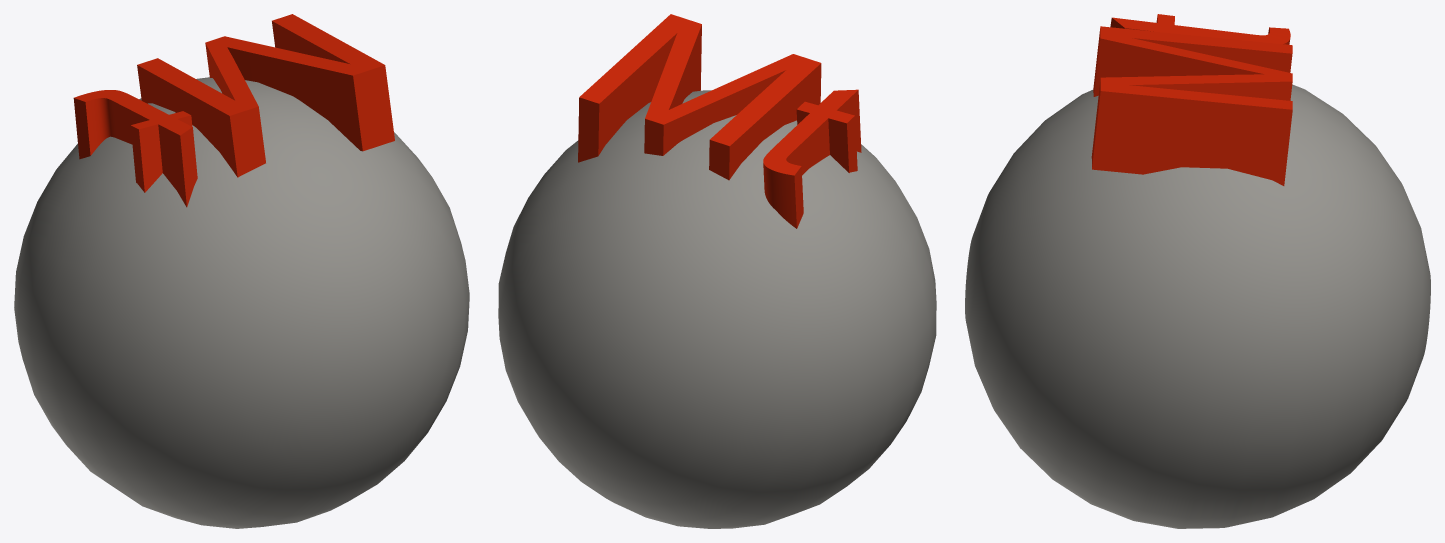
3 views of the same model, side by side, from view 1: azimuth 30°, elevation 25°; view 2: azimuth 150°, elevation 25°; view 3: azimuth 270°, elevation 25° (orthographic). The views are drawn at different scales.
Visible parts, largest first — view 1: Hf001, Object019, Object020; view 2: Hf001, Object019, Object020; view 3: Hf001, Object019, Object020.
Boxes of the visible parts, box(x1,y1,x2,y2) form: Hf001: box(14, 77, 469, 528); Object019: box(137, 14, 394, 177); Object020: box(73, 90, 197, 207); Hf001: box(498, 90, 936, 528); Object019: box(578, 14, 821, 180); Object020: box(763, 89, 861, 228); Hf001: box(965, 84, 1430, 528); Object019: box(1091, 26, 1292, 185); Object020: box(1110, 14, 1290, 44).
Size of the model in its own units: 38.67 by 42.52 by 38.66.
